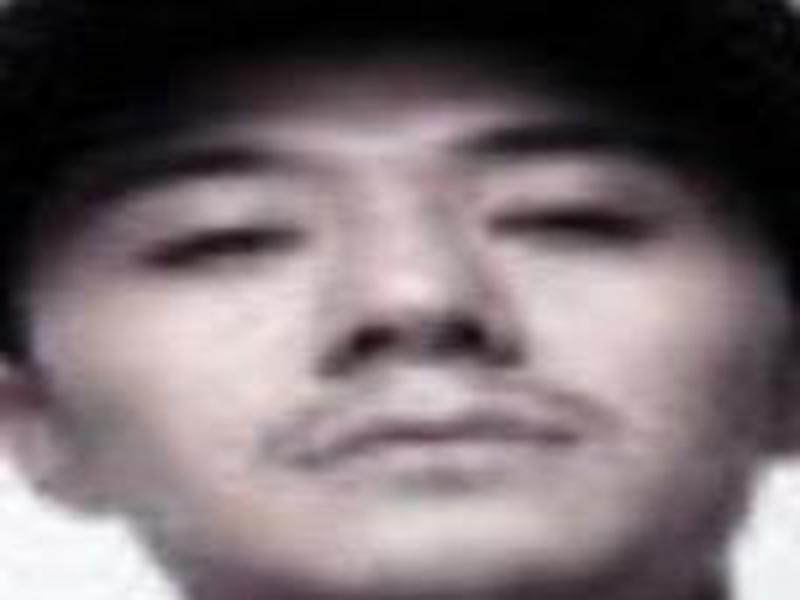without_mask: (33, 82, 746, 580)
